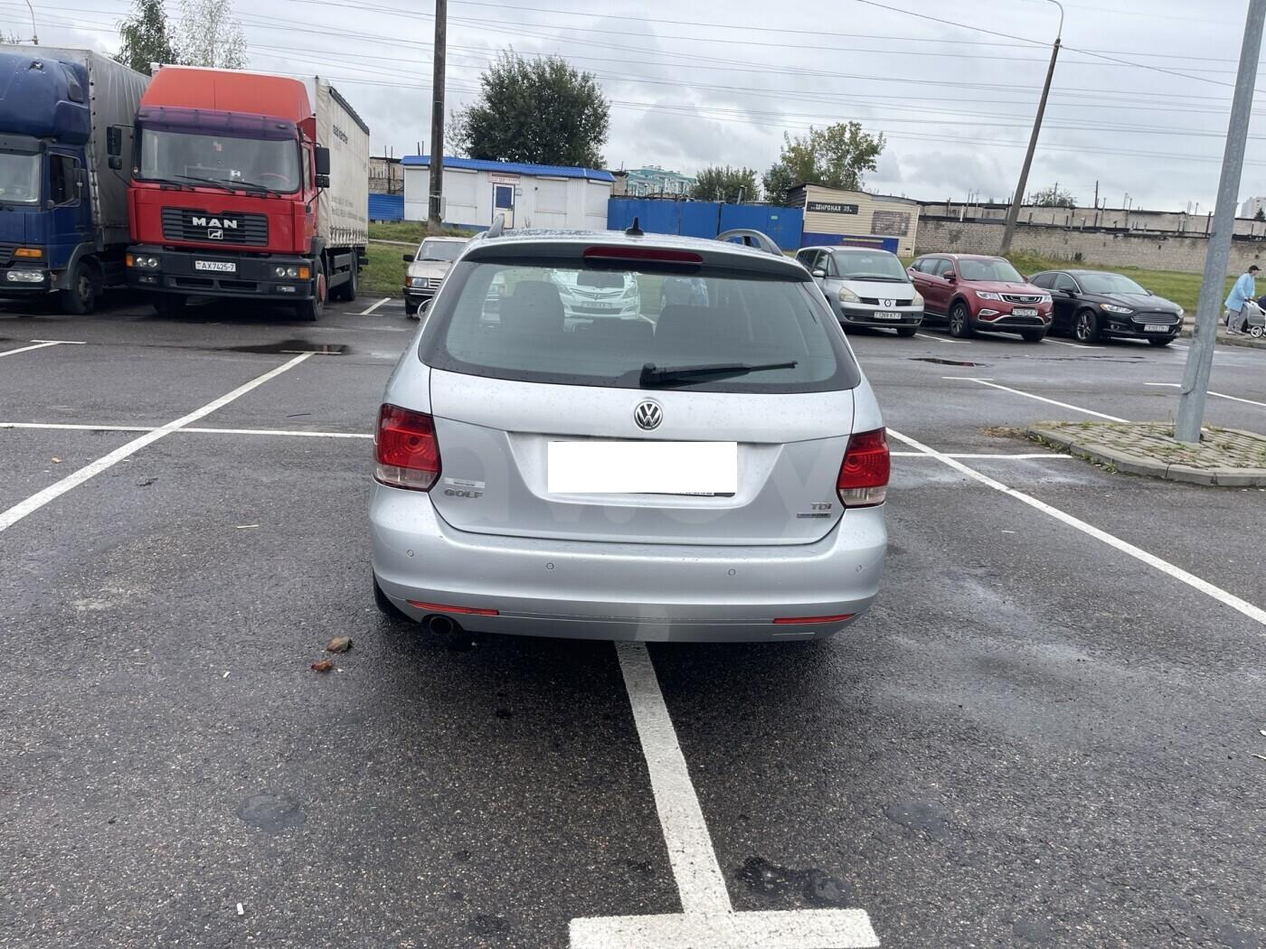Golf_2008-2013: (362, 223, 895, 657)
